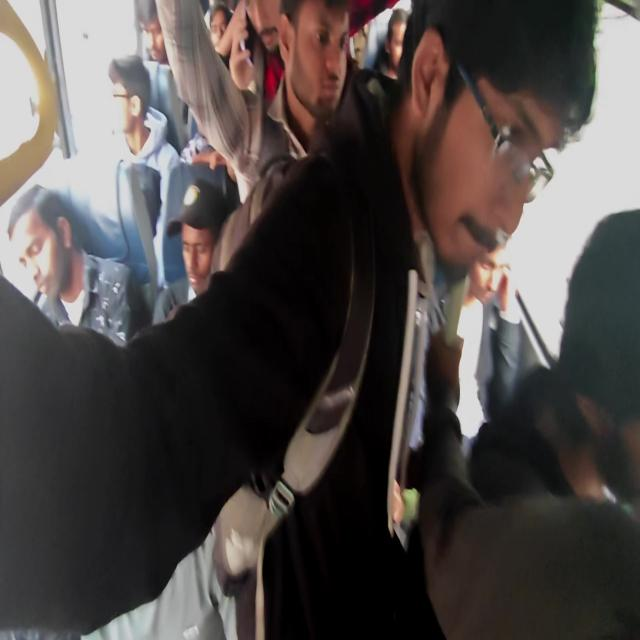person: (407, 0, 593, 265), (557, 238, 640, 466), (292, 0, 358, 129), (13, 212, 83, 313), (178, 193, 228, 312), (175, 92, 230, 172), (240, 0, 302, 63), (113, 63, 148, 141), (472, 241, 508, 313), (128, 1, 172, 59), (379, 14, 410, 70), (208, 8, 234, 52)
